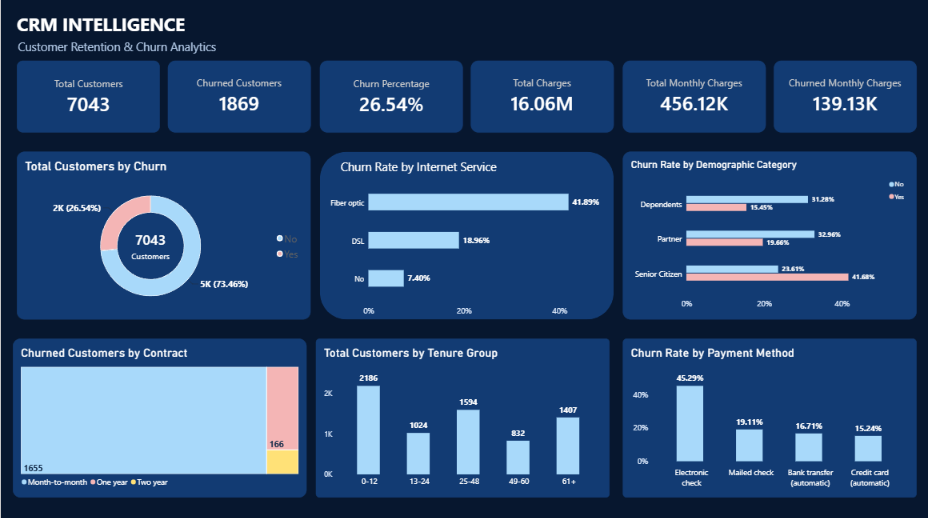

What the dashboard file says about the page in this screenshot:
{"tool":"powerbi","page":{"name":"Dashboard","canvas":[1920,1080],"ordinal":0},"visuals":[{"type":"shape","box":[656.6,317,605.1,345.8],"z":0},{"type":"textbox","box":[34,85,900,35],"z":1000},{"type":"textbox","box":[32,28,900,56],"z":2000},{"type":"cardVisual","fields":{"Data":["CRM_Customers.Churned Customers"]},"box":[344,130,294,148],"z":3000},{"type":"cardVisual","fields":{"Data":["CRM_Customers.Total Customers"]},"box":[32,130,294,148],"z":4000},{"type":"cardVisual","fields":{"Data":["CRM_Customers.Churn Percentage"]},"box":[656,130,294,148],"z":5000},{"type":"cardVisual","fields":{"Data":["CRM_Customers.Total Charges"]},"box":[968,130,294,148],"z":6000},{"type":"cardVisual","fields":{"Data":["CRM_Customers.Total Monthly Charges"]},"box":[1280,130,294,148],"z":7000},{"type":"cardVisual","fields":{"Data":["CRM_Customers.Churned Monthly Charges"]},"box":[1592,130,294,148],"z":8000},{"type":"donutChart","title":"Total Customers by Churn","fields":{"Category":["CRM_Customers.Churn"],"Y":["CRM_Customers.Total Customers"]},"box":[32.9,317,605.1,345.8],"z":9000},{"type":"clusteredBarChart","fields":{"Category":["CRM_Customers.InternetService"],"Y":["CRM_Customers.Churn Percentage"]},"box":[656.6,349.9,623.7,327.3],"z":10000},{"type":"textbox","box":[674,331,535,36],"z":11000},{"type":"clusteredBarChart","title":"Churn Rate by Demographic Category","fields":{"Category":["CRM_Demographics.Category"],"Series":["CRM_Demographics.Status"],"Y":["CRM_Customers.Demographic Churn Rate"]},"box":[1280.3,317,605.1,345.8],"z":12000},{"type":"treemap","title":"Churned Customers by Contract","fields":{"Group":["CRM_Customers.Contract"],"Values":["CRM_Customers.Churned Customers"]},"box":[24.7,701.9,605.1,327.3],"z":13000},{"type":"clusteredColumnChart","title":"Total Customers by Tenure Group","fields":{"Category":["CRM_Customers.Tenure Group"],"Y":["CRM_Customers.Total Customers"]},"box":[648.4,701.9,605.1,327.3],"z":14000},{"type":"clusteredColumnChart","title":"Churn Rate by Payment Method","fields":{"Category":["CRM_Customers.PaymentMethod"],"Y":["CRM_Customers.Churn Percentage"]},"box":[1280.3,701.9,605.1,327.3],"z":15000}]}

Visuals, with their boxes in screenshot pixels (x1, y1, x2, y2), scaled from the page's 1920x1080 canvas onto the 928x518 screenshot:
shape: {"left": 317, "top": 152, "right": 610, "bottom": 318}
textbox: {"left": 16, "top": 41, "right": 451, "bottom": 58}
textbox: {"left": 15, "top": 13, "right": 450, "bottom": 40}
cardVisual - CRM_Customers.Churned Customers: {"left": 166, "top": 62, "right": 308, "bottom": 133}
cardVisual - CRM_Customers.Total Customers: {"left": 15, "top": 62, "right": 158, "bottom": 133}
cardVisual - CRM_Customers.Churn Percentage: {"left": 317, "top": 62, "right": 459, "bottom": 133}
cardVisual - CRM_Customers.Total Charges: {"left": 468, "top": 62, "right": 610, "bottom": 133}
cardVisual - CRM_Customers.Total Monthly Charges: {"left": 619, "top": 62, "right": 761, "bottom": 133}
cardVisual - CRM_Customers.Churned Monthly Charges: {"left": 769, "top": 62, "right": 912, "bottom": 133}
"Total Customers by Churn" donutChart: {"left": 16, "top": 152, "right": 308, "bottom": 318}
clusteredBarChart - CRM_Customers.InternetService x CRM_Customers.Churn Percentage: {"left": 317, "top": 168, "right": 619, "bottom": 325}
textbox: {"left": 326, "top": 159, "right": 584, "bottom": 176}
"Churn Rate by Demographic Category" clusteredBarChart: {"left": 619, "top": 152, "right": 911, "bottom": 318}
"Churned Customers by Contract" treemap: {"left": 12, "top": 337, "right": 304, "bottom": 494}
"Total Customers by Tenure Group" clusteredColumnChart: {"left": 313, "top": 337, "right": 606, "bottom": 494}
"Churn Rate by Payment Method" clusteredColumnChart: {"left": 619, "top": 337, "right": 911, "bottom": 494}
